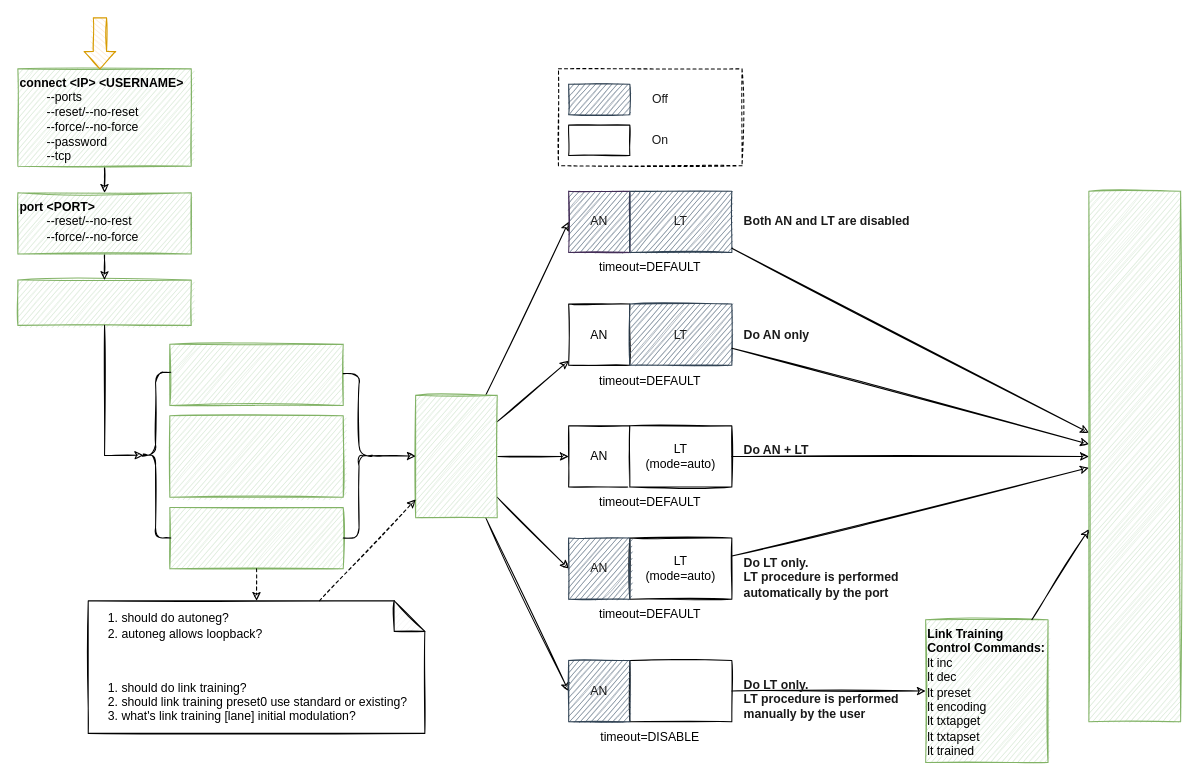
This 1199x780 diagram has some shape labels left out. Each missing label, with the box of its shape:
an config --on/--off --loopback/--no-loopback: (169, 343, 343, 405)
do anlt: (415, 394, 497, 518)
LT (mode=interactive): (629, 659, 732, 722)
lt config --mode --on/--off --preset0/--no-preset0: (169, 415, 343, 497)
lt im <LANE> <ENCODING>: (169, 506, 343, 569)
Read statistics and logging: (1088, 190, 1181, 722)
recovery --on/--off: (17, 279, 191, 325)
